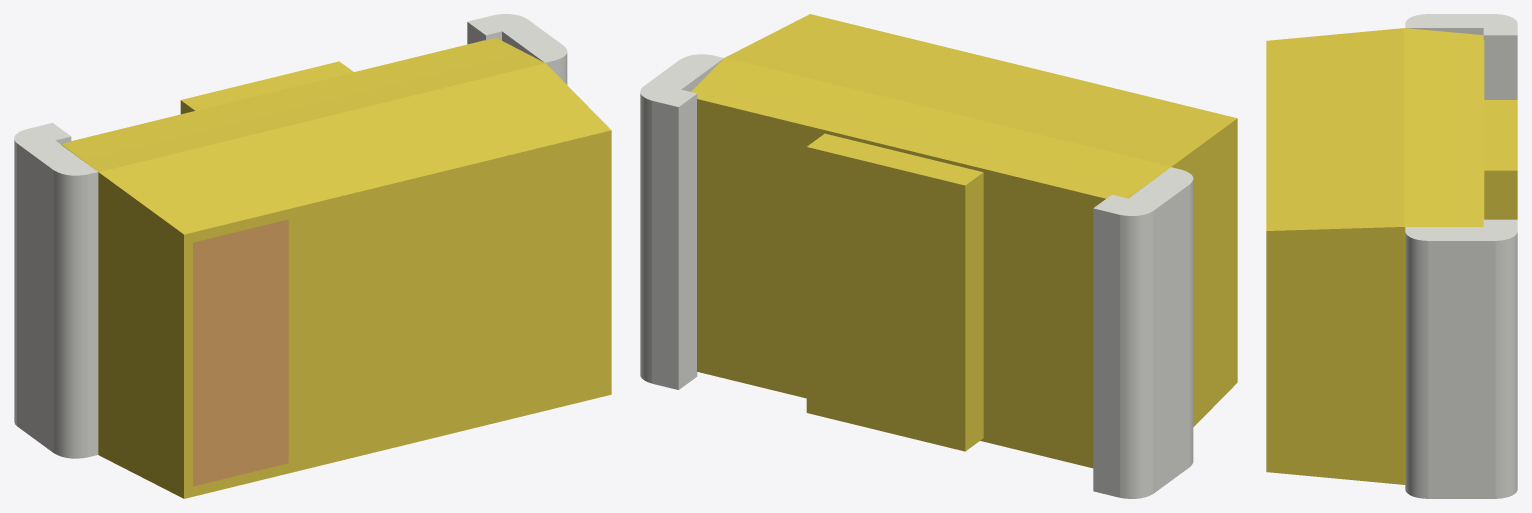
Rendered from CP_EIA-1608-08_AVX-J.glb.
The picture shows the model from 3 angles, left to right: view 1: azimuth 30°, elevation 25°; view 2: azimuth 150°, elevation 25°; view 3: azimuth 270°, elevation 25°; orthographic projection. The views are drawn at different scales.
Parts seen in each view (by area): view 1: Shape_IndexedFaceSet.025, Shape_IndexedFaceSet.014, Shape_IndexedFaceSet.024, Shape_IndexedFaceSet.039, Shape_IndexedFaceSet.010, Shape_IndexedFaceSet.035, Shape_IndexedFaceSet.036, Shape_IndexedFaceSet.037, Shape_IndexedFaceSet.019, Shape_IndexedFaceSet.001, Shape_IndexedFaceSet.026, Shape_IndexedFaceSet.038; view 2: Shape_IndexedFaceSet.011, Shape_IndexedFaceSet.030, Shape_IndexedFaceSet.014, Shape_IndexedFaceSet.010, Shape_IndexedFaceSet.024, Shape_IndexedFaceSet.035, Shape_IndexedFaceSet.038, Shape_IndexedFaceSet, Shape_IndexedFaceSet.029, Shape_IndexedFaceSet.004, Shape_IndexedFaceSet.018, Shape_IndexedFaceSet.002 (+4 smaller); view 3: Shape_IndexedFaceSet.023, Shape_IndexedFaceSet.014, Shape_IndexedFaceSet.005, Shape_IndexedFaceSet.010, Shape_IndexedFaceSet.009, Shape_IndexedFaceSet.002, Shape_IndexedFaceSet.019, Shape_IndexedFaceSet.017, Shape_IndexedFaceSet.001, Shape_IndexedFaceSet.026, Shape_IndexedFaceSet.021, Shape_IndexedFaceSet.013 (+1 smaller).
Part boxes in pixels (left/top/right/bottom): Shape_IndexedFaceSet.025: left=184, top=130, right=611, bottom=498; Shape_IndexedFaceSet.014: left=99, top=63, right=610, bottom=234; Shape_IndexedFaceSet.024: left=98, top=172, right=183, bottom=498; Shape_IndexedFaceSet.039: left=193, top=219, right=288, bottom=486; Shape_IndexedFaceSet.010: left=61, top=38, right=544, bottom=171; Shape_IndexedFaceSet.035: left=17, top=143, right=53, bottom=452; Shape_IndexedFaceSet.036: left=54, top=170, right=87, bottom=458; Shape_IndexedFaceSet.037: left=87, top=172, right=98, bottom=457; Shape_IndexedFaceSet.019: left=181, top=61, right=353, bottom=110; Shape_IndexedFaceSet.001: left=467, top=14, right=567, bottom=62; Shape_IndexedFaceSet.026: left=14, top=123, right=97, bottom=175; Shape_IndexedFaceSet.038: left=14, top=139, right=16, bottom=425; Shape_IndexedFaceSet.011: left=697, top=99, right=1105, bottom=468; Shape_IndexedFaceSet.030: left=806, top=147, right=965, bottom=451; Shape_IndexedFaceSet.014: left=725, top=14, right=1236, bottom=166; Shape_IndexedFaceSet.010: left=691, top=58, right=1171, bottom=198; Shape_IndexedFaceSet.024: left=1172, top=118, right=1237, bottom=426; Shape_IndexedFaceSet.035: left=1153, top=184, right=1189, bottom=493; Shape_IndexedFaceSet.038: left=1120, top=211, right=1152, bottom=498; Shape_IndexedFaceSet: left=652, top=100, right=678, bottom=389; Shape_IndexedFaceSet.029: left=1093, top=208, right=1119, bottom=497; Shape_IndexedFaceSet.004: left=678, top=94, right=697, bottom=389; Shape_IndexedFaceSet.018: left=965, top=172, right=983, bottom=451; Shape_IndexedFaceSet.002: left=640, top=93, right=651, bottom=383; Shape_IndexedFaceSet.023: left=1266, top=227, right=1404, bottom=484; Shape_IndexedFaceSet.014: left=1266, top=28, right=1404, bottom=230; Shape_IndexedFaceSet.005: left=1428, top=241, right=1495, bottom=498; Shape_IndexedFaceSet.010: left=1404, top=28, right=1484, bottom=226; Shape_IndexedFaceSet.009: left=1405, top=232, right=1428, bottom=498; Shape_IndexedFaceSet.002: left=1495, top=232, right=1517, bottom=498; Shape_IndexedFaceSet.019: left=1484, top=100, right=1517, bottom=170; Shape_IndexedFaceSet.017: left=1483, top=35, right=1517, bottom=99; Shape_IndexedFaceSet.001: left=1405, top=219, right=1517, bottom=240; Shape_IndexedFaceSet.026: left=1405, top=14, right=1517, bottom=35; Shape_IndexedFaceSet.021: left=1484, top=170, right=1517, bottom=219; Shape_IndexedFaceSet.013: left=1404, top=227, right=1405, bottom=484.
Size of what is drawn, in the model's own units: 0.63 by 0.334 by 0.295.
